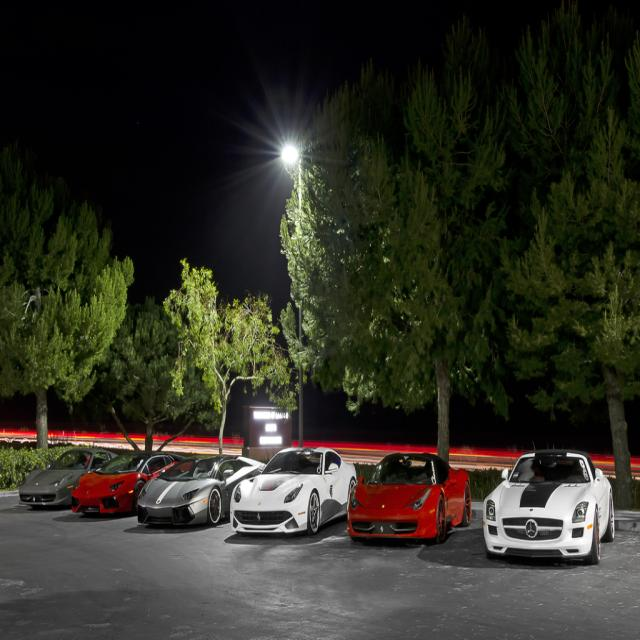car: (482, 444, 610, 569), (344, 443, 470, 540), (230, 443, 360, 531)
